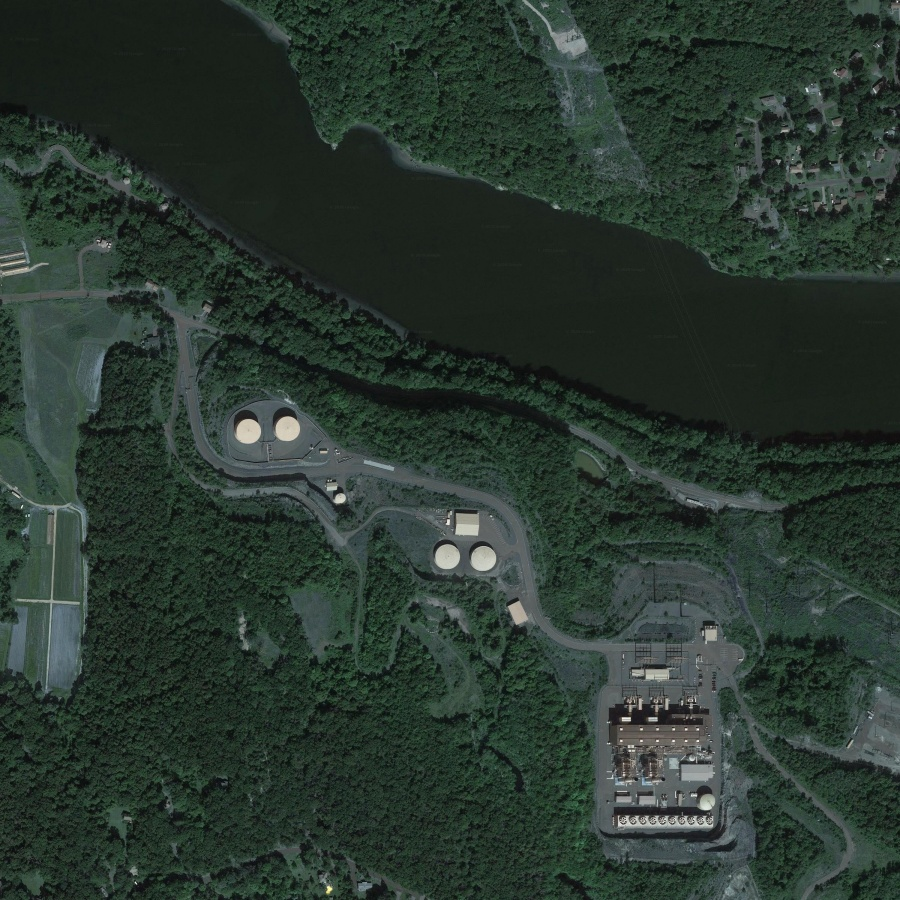PowerPlant: (600, 605, 746, 845)
